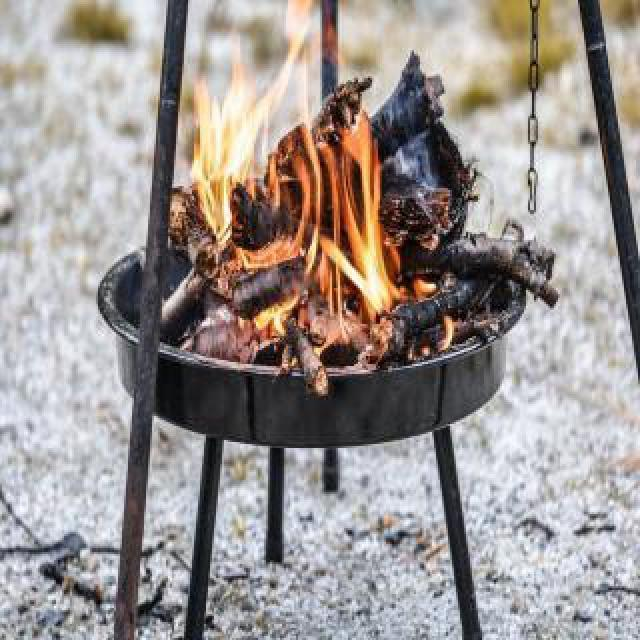Fire: (186, 40, 396, 372)
